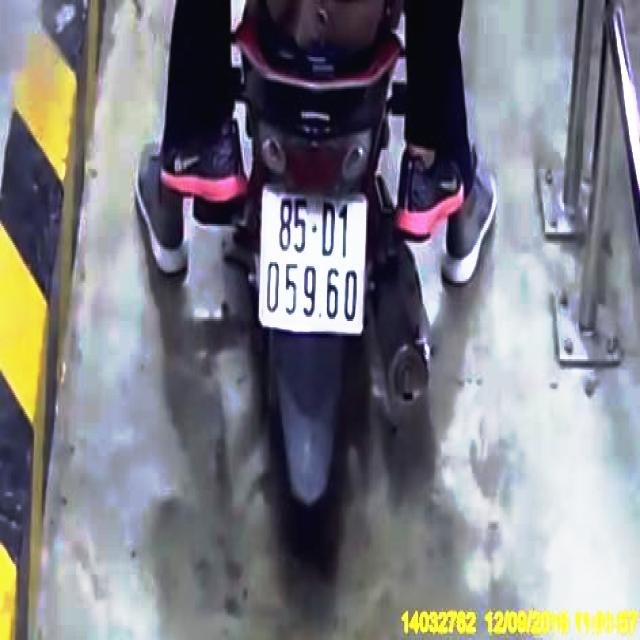license_plate: (260, 182, 371, 339)
